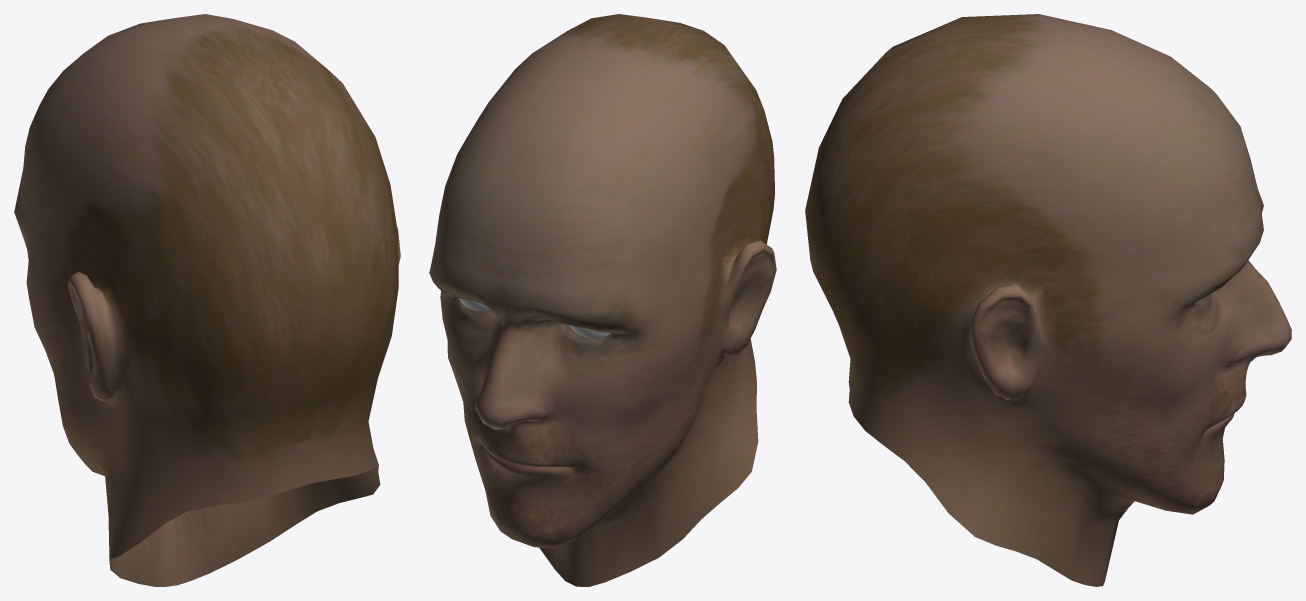
The model's file is G3_Head_Slave_Myrtana_Animated_01_S26.obj.
3 views of the same model, side by side, from view 1: azimuth 30°, elevation 25°; view 2: azimuth 150°, elevation 25°; view 3: azimuth 270°, elevation 25° (orthographic). The views are drawn at different scales.
Parts seen in each view (by area): view 1: G3_Animation_Head_Slave_Main_01; view 2: G3_Animation_Head_Slave_Main_01; view 3: G3_Animation_Head_Slave_Main_01.
Boxes of the visible parts, bbox=[...] form: G3_Animation_Head_Slave_Main_01: bbox=[14, 14, 400, 586]; G3_Animation_Head_Slave_Main_01: bbox=[429, 14, 776, 586]; G3_Animation_Head_Slave_Main_01: bbox=[805, 14, 1291, 586].
Bounding box in the file's own units: 0.1504 × 0.2644 × 0.2108.
